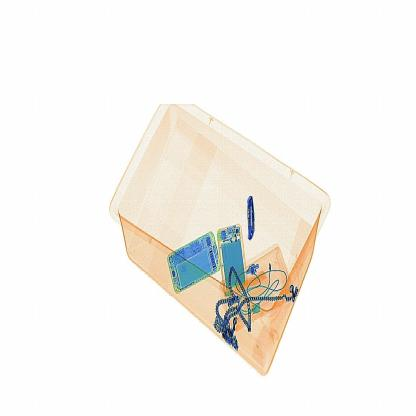knife: (238, 182, 268, 241)
